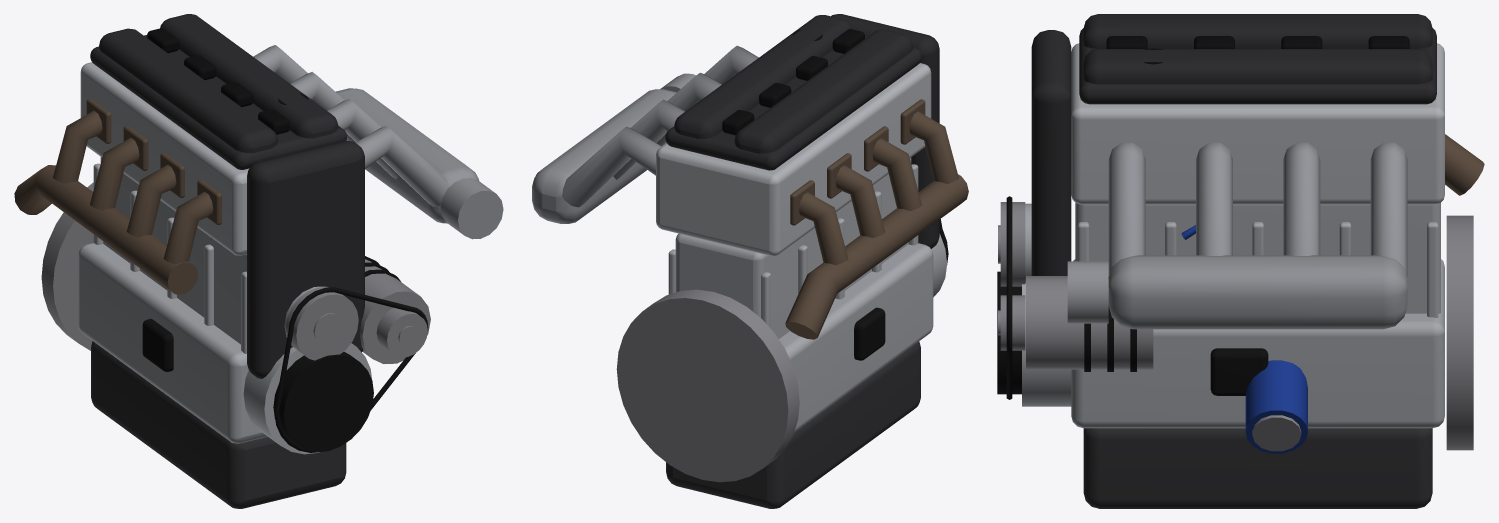
File: demo_i4_pipes.glb
The picture shows the model from 3 angles, left to right: view 1: azimuth 30°, elevation 25°; view 2: azimuth 150°, elevation 25°; view 3: azimuth 270°, elevation 25°; orthographic projection. The views are drawn at different scales.
Visible parts, largest first — view 1: demo_i4_pipes; view 2: demo_i4_pipes; view 3: demo_i4_pipes.
Part boxes in pixels (x1,y1,x2,y2): demo_i4_pipes: (14, 14, 503, 508); demo_i4_pipes: (532, 14, 968, 508); demo_i4_pipes: (997, 14, 1484, 508).
Size of the model in its own units: 0.532 by 0.5944 by 0.5935.
